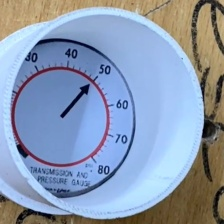gauge: (12, 38, 135, 196)
